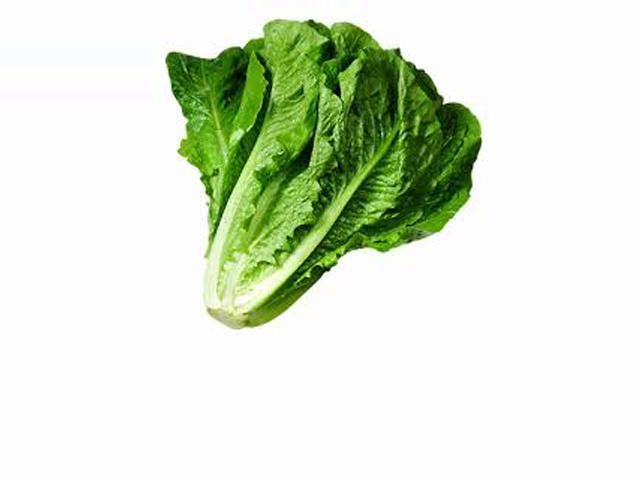lettuce: (170, 16, 485, 342)
